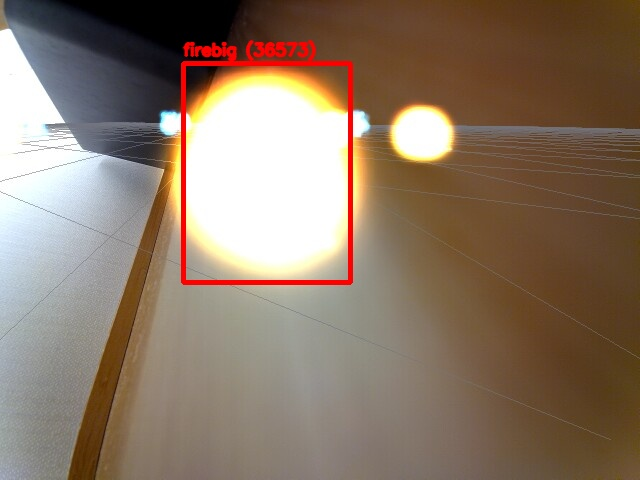firebig: (183, 63, 350, 282)
